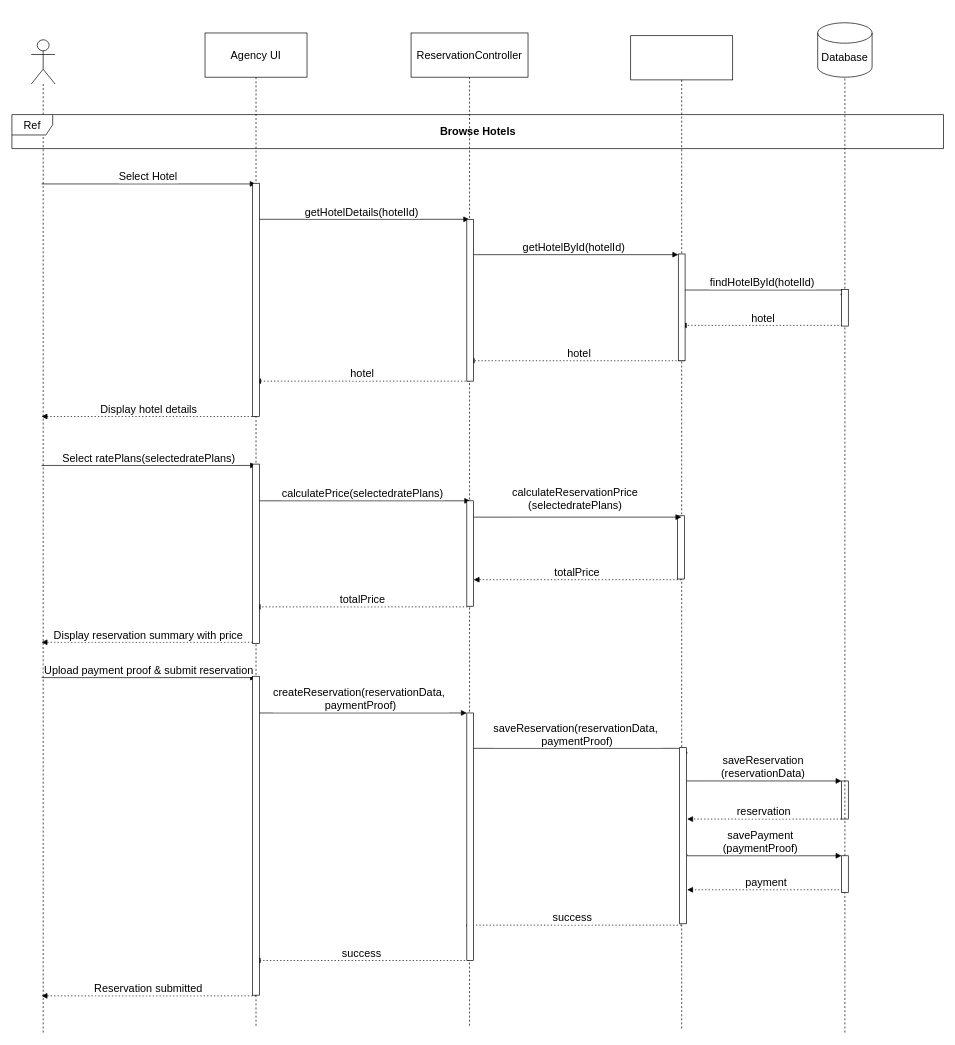
The diagram is 955 pixels wide and 1045 high, and some of its shapes have lost their labels. Each missing label, with the box of its shape:
Agency User: (31, 39, 55, 1033)
HotelService: (630, 35, 733, 1030)
